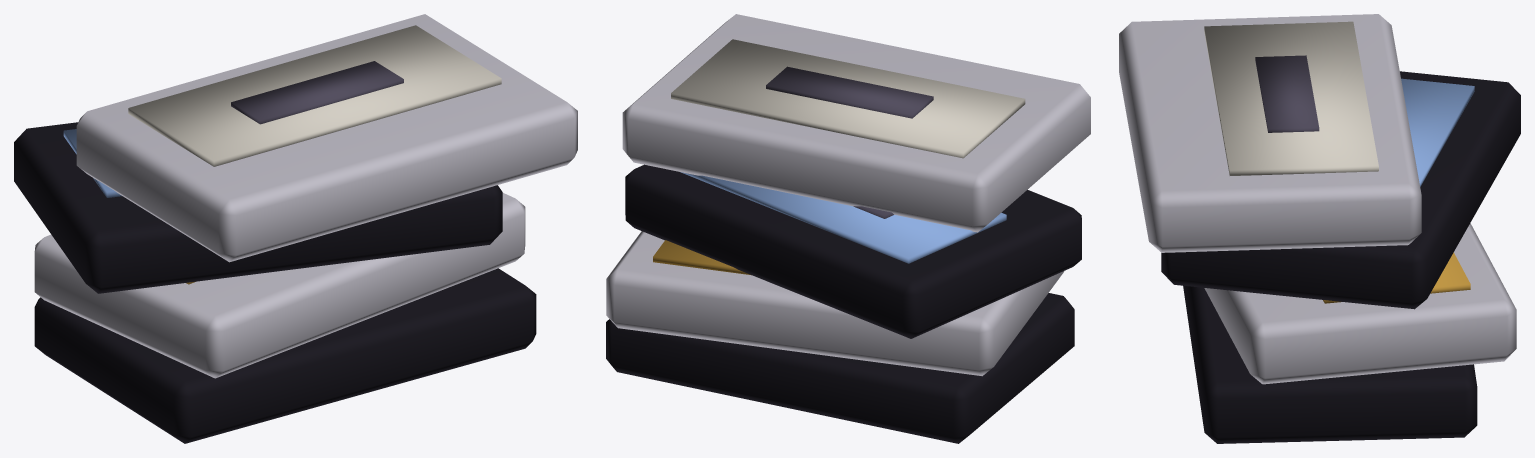
File: cassettes.glb
The picture shows the model from 3 angles, left to right: view 1: azimuth 30°, elevation 25°; view 2: azimuth 150°, elevation 25°; view 3: azimuth 270°, elevation 25°; orthographic projection. The views are drawn at different scales.
Parts seen in each view (by area): view 1: cassettes; view 2: cassettes; view 3: cassettes.
Boxes of the visible parts, <box> form: cassettes: <box>14,14,577,443</box>; cassettes: <box>606,14,1090,443</box>; cassettes: <box>1119,14,1520,443</box>.
Size of the model in its own units: 0.1161 by 0.0695 by 0.0941.
